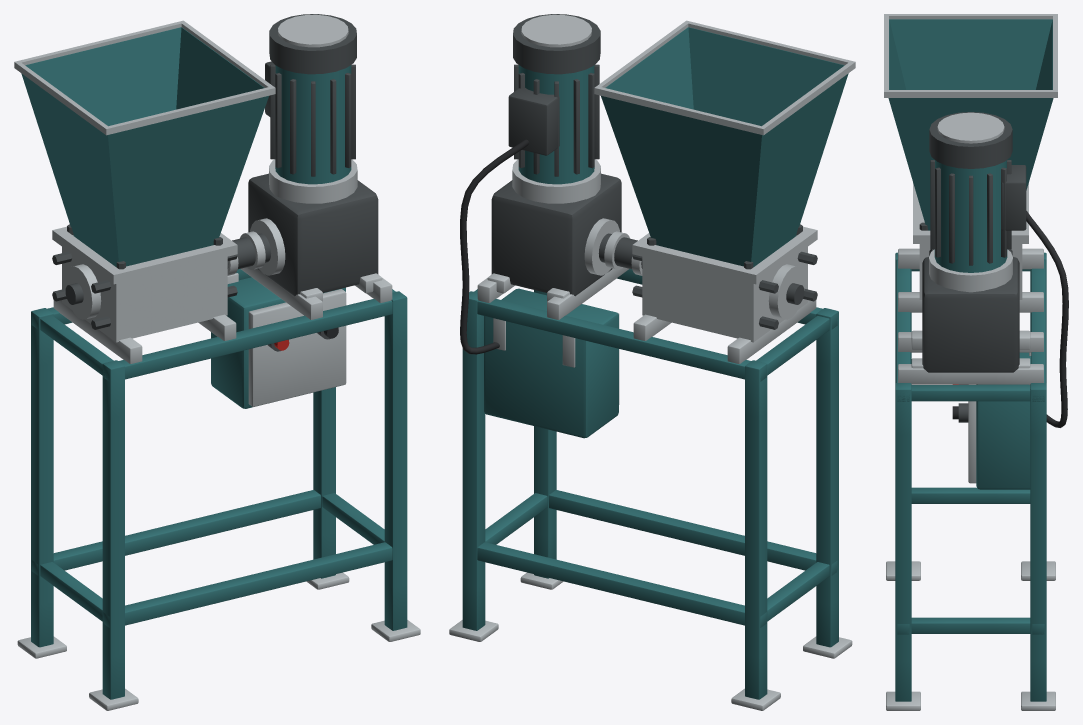
File: A-NEW-20261026-PLASTIC-SHREDDER-001_LOD1_R4.glb
3 views of the same model, side by side, from view 1: azimuth 30°, elevation 25°; view 2: azimuth 150°, elevation 25°; view 3: azimuth 270°, elevation 25° (orthographic). The views are drawn at different scales.
Visible parts, largest first — view 1: open tapered hopper, gear reducer housing, hollow cutter housing, stand leg.002, stand leg, stand leg.001, enclosure front door, vertical motor body, long frame rail, front top frame, long frame rail.001, rolled hopper lip (+19 smaller); view 2: open tapered hopper, electrical enclosure, gear reducer housing, hollow cutter housing, stand leg.001, stand leg, stand leg.003, long frame rail.001, long frame rail.002, long frame rail, rolled hopper lip, vertical motor body (+18 smaller); view 3: open tapered hopper, gear reducer housing, stand leg.002, stand leg.003, electrical enclosure, vertical motor body, rolled hopper lip, rounded motor end cover, mounted support crossbar.003, short frame tie.001, short frame tie.003, short frame tie (+24 smaller).
Boxes of the visible parts, x1,y1,x2,y2 form: open tapered hopper: [21, 27, 268, 267]; gear reducer housing: [248, 173, 378, 296]; hollow cutter housing: [62, 247, 227, 342]; stand leg.002: [384, 291, 407, 630]; stand leg: [102, 360, 124, 699]; stand leg.001: [31, 308, 53, 647]; enclosure front door: [248, 289, 346, 406]; vertical motor body: [275, 65, 351, 184]; long frame rail: [103, 542, 392, 627]; front top frame: [103, 299, 392, 381]; long frame rail.001: [31, 490, 320, 575]; rolled hopper lip: [14, 20, 275, 135]; open tapered hopper: [601, 27, 848, 267]; electrical enclosure: [484, 288, 618, 438]; gear reducer housing: [491, 173, 621, 296]; hollow cutter housing: [642, 247, 807, 342]; stand leg.001: [745, 360, 767, 699]; stand leg: [816, 308, 838, 647]; stand leg.003: [462, 291, 485, 630]; long frame rail.001: [477, 542, 766, 627]; long frame rail.002: [477, 299, 766, 381]; long frame rail: [549, 490, 837, 575]; rolled hopper lip: [594, 20, 855, 135]; vertical motor body: [518, 65, 594, 184]; open tapered hopper: [888, 19, 1053, 230]; gear reducer housing: [922, 257, 1019, 372]; stand leg.002: [895, 383, 911, 701]; stand leg.003: [1030, 383, 1046, 701]; electrical enclosure: [976, 352, 1031, 489]; vertical motor body: [934, 160, 1007, 272]; rolled hopper lip: [884, 14, 1057, 97]; rounded motor end cover: [929, 112, 1012, 168]; mounted support crossbar.003: [898, 364, 1043, 384]; short frame tie.001: [911, 617, 1030, 633]; short frame tie.003: [911, 385, 1030, 401]; short frame tie: [911, 487, 1030, 503].
Size of the model in its own units: 0.6385 by 1.13 by 0.3423.
